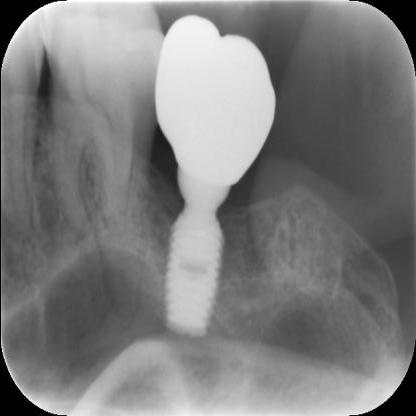Bicon: (161, 213, 232, 337)
